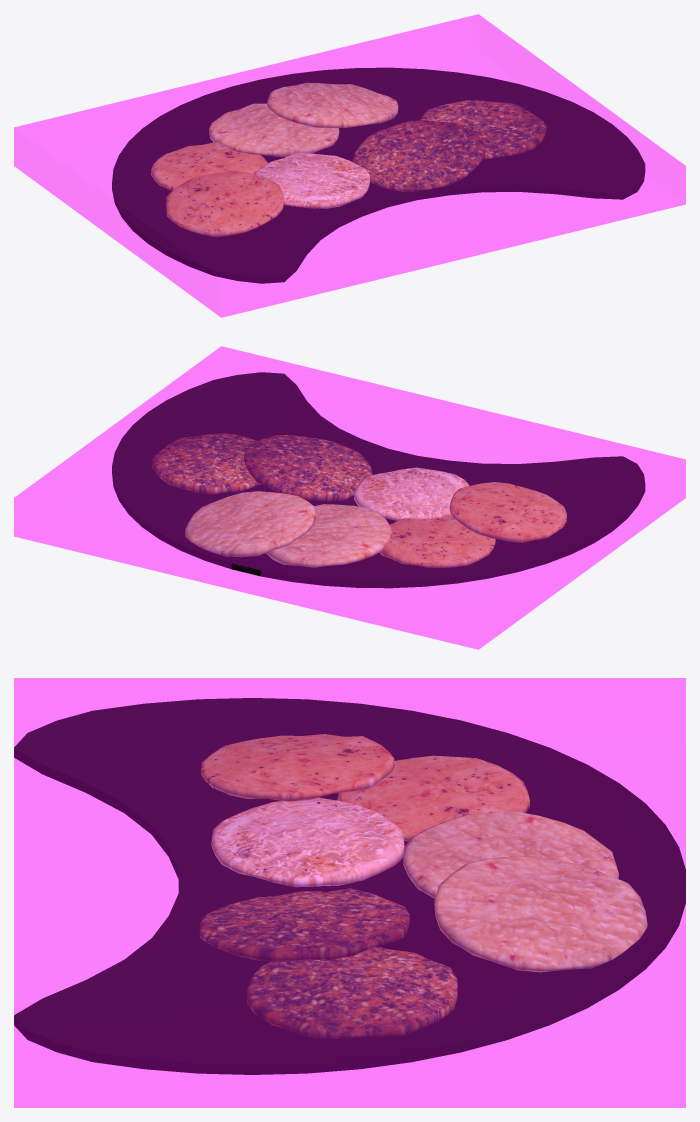
File: ricecracker.fbx
3 views of the same model, one above another, from view 1: azimuth 30°, elevation 25°; view 2: azimuth 150°, elevation 25°; view 3: azimuth 270°, elevation 25° (orthographic). The views are drawn at different scales.
Parts seen in each view (by area): view 1: boundingbox, ricecracker; view 2: boundingbox, ricecracker; view 3: boundingbox, ricecracker.
Boxes of the visible parts, x1,y1,x2,y2 form: boundingbox: (14,14,685,317); ricecracker: (112,67,645,283); boundingbox: (14,346,685,649); ricecracker: (112,372,645,588); boundingbox: (14,678,685,1107); ricecracker: (14,698,685,1074).
Bounding box in the file's own units: 24 × 1.9 × 18.56.
Materials: 3 (1 with a texture image).
